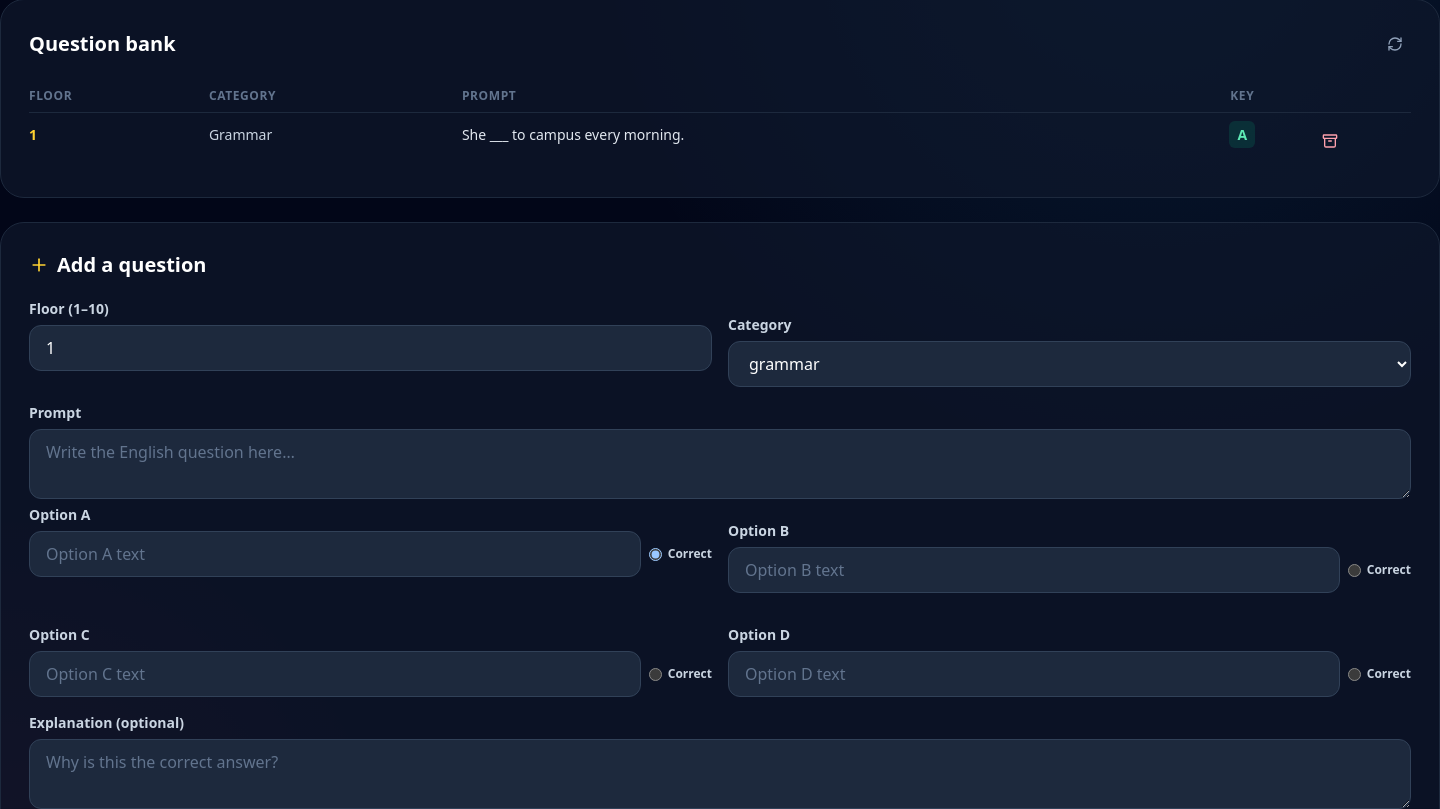
Test: <QuestionManager /> › blocks submission and shows validation errors for a short prompt
Expected: the table with test id "question-table" is shown, [29,80,1411,169]
Type "Short" into the text box named "question prompt" at (720, 464), box [29,429,1411,499]
(page scrolled)
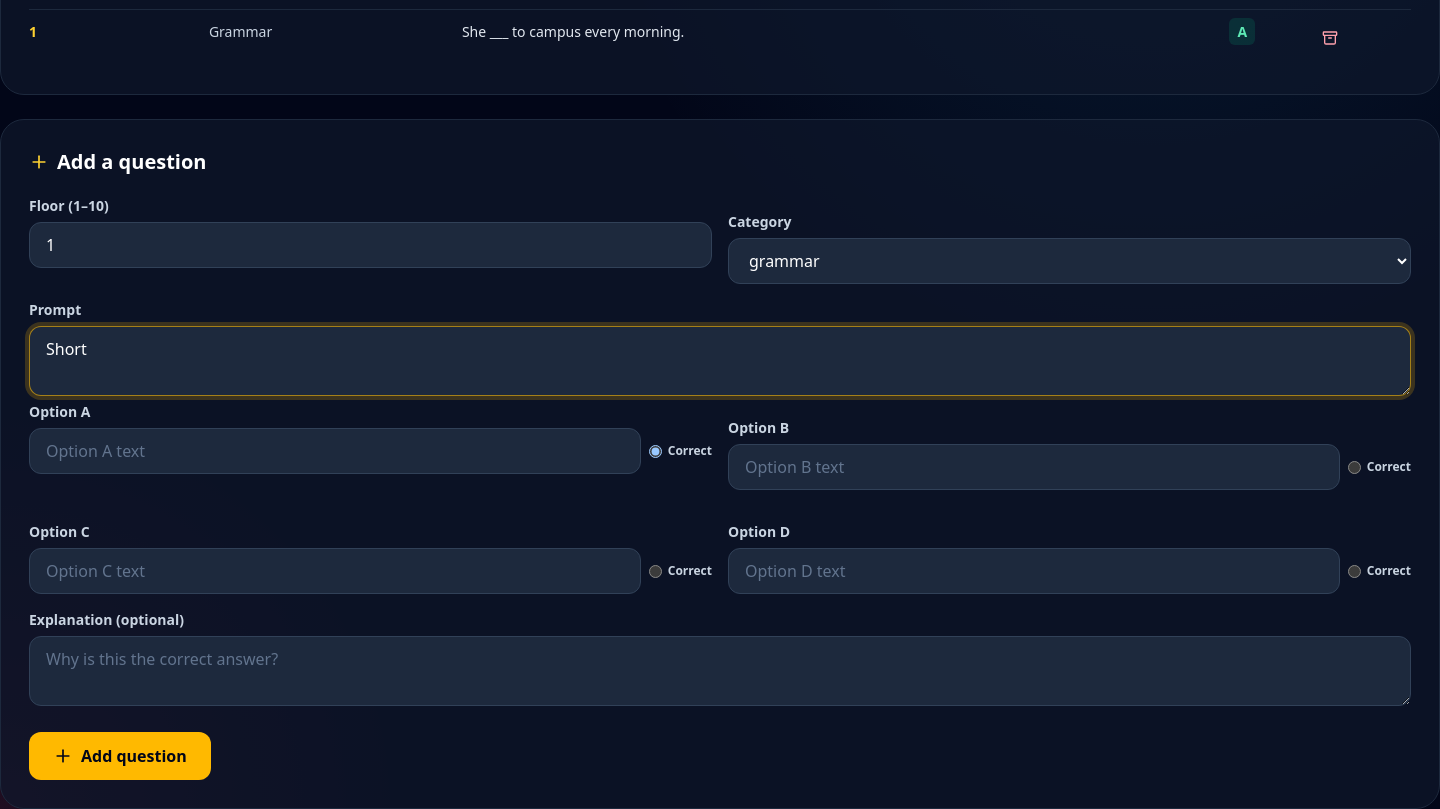
Click the button "Add question" at (120, 756), box [29,732,211,780]
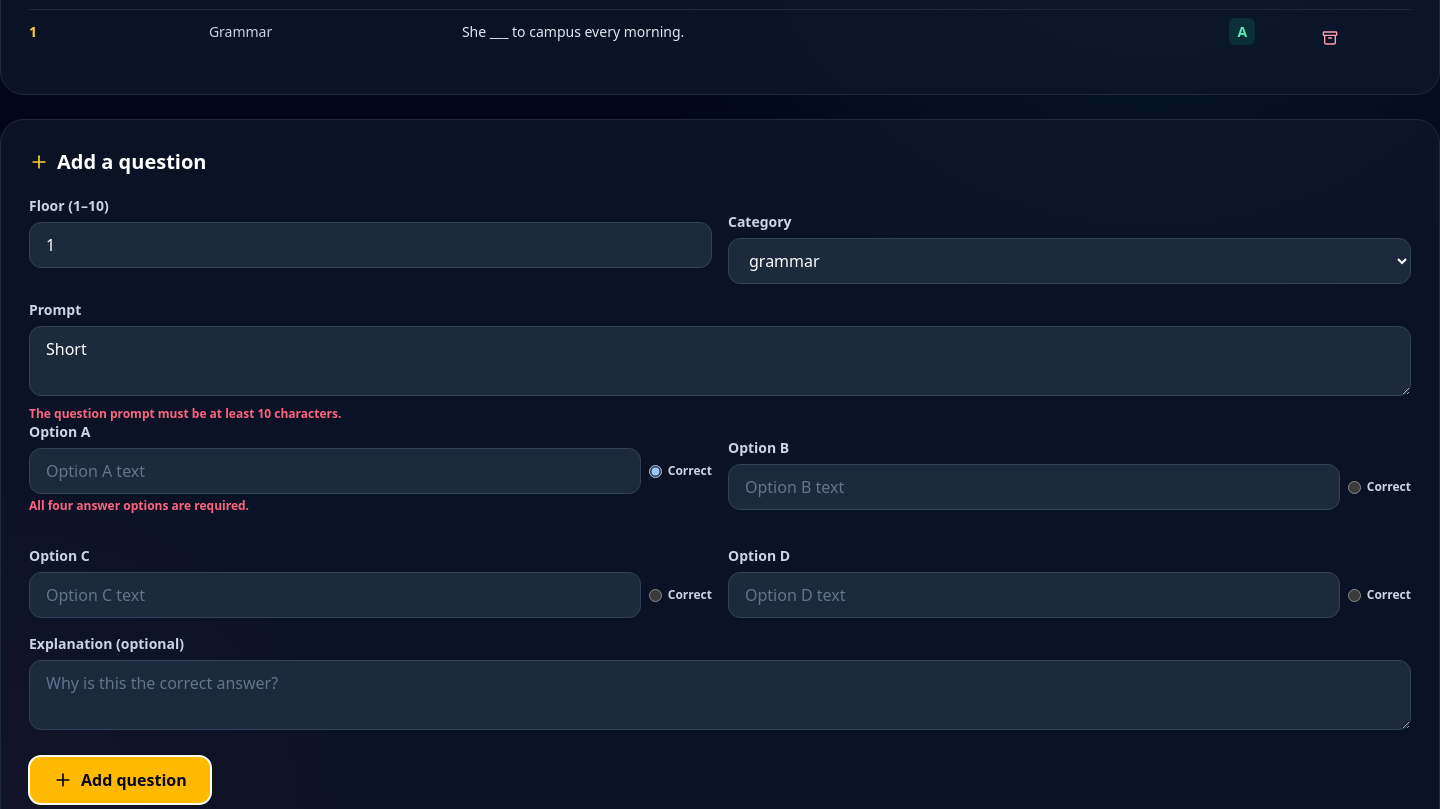
Expected: the text "The question prompt must be at least 10 characters." is shown, [29,405,341,422]
